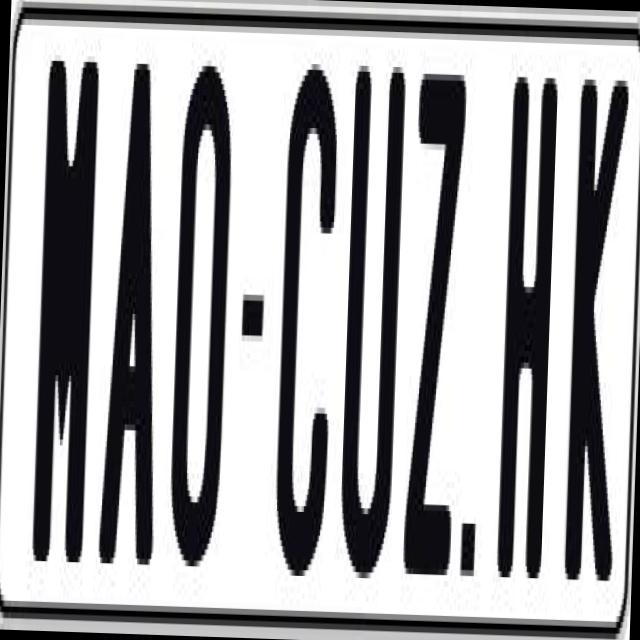0: (164, 48, 230, 560)
A: (98, 45, 169, 565)
C: (271, 57, 339, 582)
H: (496, 59, 560, 561)
K: (563, 67, 627, 569)
M: (32, 48, 104, 568)
U: (334, 48, 411, 590)
Z: (401, 62, 468, 569)
